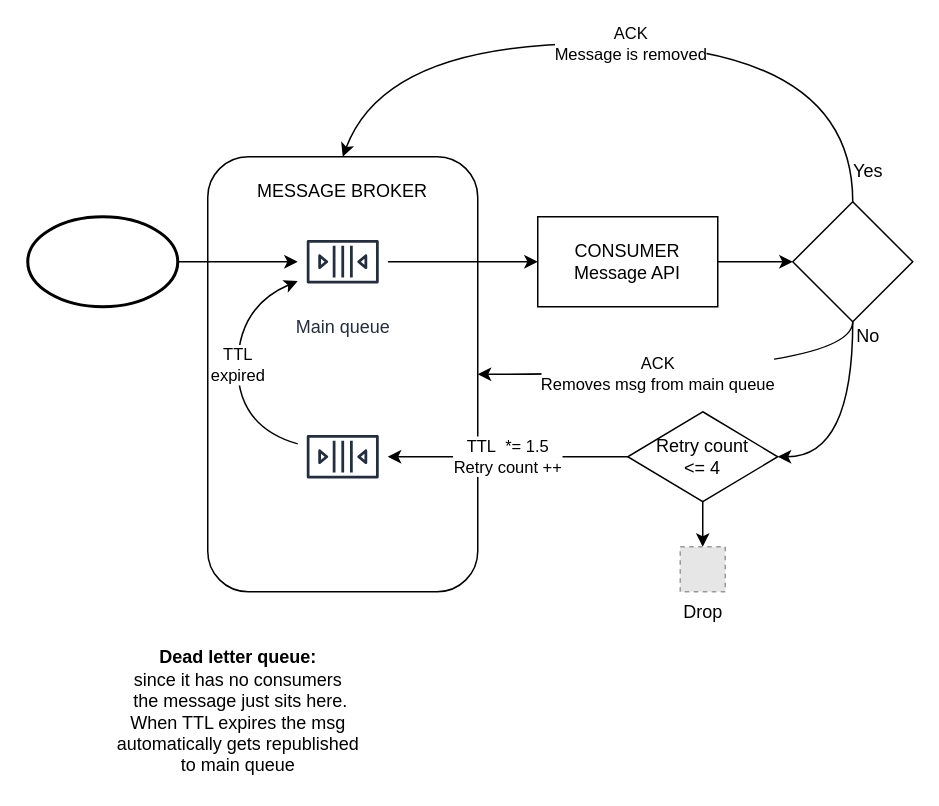
Image size: 939x806. Some labels were removed from this diagram. Grey dashed boxes stand in for pictures. Here are the shapes that lost their labels. From the top down, the centre of each, then its label:
[102,261]: PRODUCER XML Importer
[852,261]: Success?
[342,456]: Dead letter (retry) queue)
